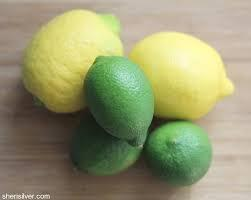lemon: (21, 8, 124, 114), (129, 31, 233, 119)
